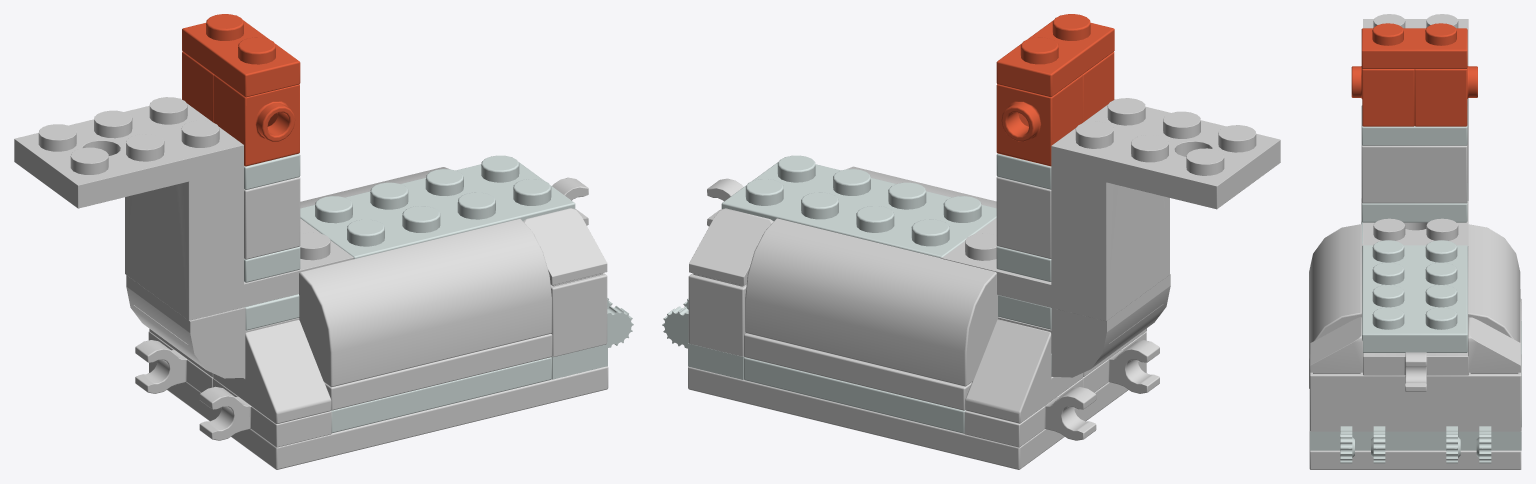
The model's file is Passo 20.fbx.
3 views of the same model, side by side, from view 1: azimuth 30°, elevation 25°; view 2: azimuth 150°, elevation 25°; view 3: azimuth 270°, elevation 25° (orthographic). The views are drawn at different scales.
Visible parts, largest first — view 1: Bracket_5x2.001, Brick_curved_2x4__1_.004, Plate_2x4.009, Plate_4x6.010, Slope_2x1_2.006, Plate_1x2__2_.005, Slope_curved_2x2.003, Brick_special_1x1, Plate_1x4__1_.008, Plate_2x4__1_.009, Brick_1x4.008, Brick_1x2 (+9 smaller); view 2: Bracket_5x2.001, Brick_curved_2x4.004, Plate_2x4.009, Plate_4x6.010, Slope_2x1_2__1_.006, Plate_1x2__2_.005, Slope_curved_2x2.003, Plate_1x4.008, Brick_special_1x1__1_, Plate_2x4_1.002, Brick_1x4.008, Slope_1x1__1_.005 (+9 smaller); view 3: Brick_1x4.008, Plate_2x4.009, Brick_1x2, Brick_curved_2x4__1_.004, Brick_curved_2x4.004, Plate_1x2__2_.005, Bracket_5x2.001, Plate_4x6.010, Brick_special_1x1__1_, Brick_special_1x1, Plate_special_1x2_2.009, Hinge_plate__1_.010 (+5 smaller).
Boxes of the visible parts, box(x1,y1,x2,y2) form: Bracket_5x2.001: box(14, 97, 353, 320); Brick_curved_2x4__1_.004: box(299, 218, 551, 387); Plate_2x4.009: box(300, 155, 575, 258); Plate_4x6.010: box(149, 361, 608, 469); Slope_2x1_2.006: box(213, 320, 331, 423); Plate_1x2__2_.005: box(182, 14, 300, 97); Slope_curved_2x2.003: box(126, 275, 299, 378); Brick_special_1x1: box(213, 75, 299, 166); Plate_1x4__1_.008: box(325, 334, 552, 410); Plate_2x4__1_.009: box(331, 357, 551, 433); Brick_1x4.008: box(550, 273, 607, 356); Brick_1x2: box(244, 177, 300, 259); Bracket_5x2.001: box(940, 98, 1280, 320); Brick_curved_2x4.004: box(745, 218, 997, 386); Plate_2x4.009: box(721, 155, 996, 257); Plate_4x6.010: box(688, 360, 1146, 469); Slope_2x1_2__1_.006: box(965, 319, 1083, 423); Plate_1x2__2_.005: box(996, 14, 1114, 97); Slope_curved_2x2.003: box(998, 274, 1170, 377); Plate_1x4.008: box(744, 333, 971, 410); Brick_special_1x1__1_: box(996, 75, 1082, 166); Plate_2x4_1.002: box(744, 357, 965, 433); Brick_1x4.008: box(688, 273, 746, 356); Slope_1x1__1_.005: box(689, 208, 773, 286); Brick_1x4.008: box(1309, 354, 1521, 431); Plate_2x4.009: box(1362, 240, 1467, 352); Brick_1x2: box(1361, 145, 1467, 203); Brick_curved_2x4__1_.004: box(1309, 224, 1362, 388); Brick_curved_2x4.004: box(1468, 224, 1520, 342); Plate_1x2__2_.005: box(1361, 23, 1467, 68); Bracket_5x2.001: box(1363, 14, 1468, 246); Plate_4x6.010: box(1309, 431, 1521, 469); Brick_special_1x1__1_: box(1414, 66, 1477, 126); Brick_special_1x1: box(1351, 66, 1414, 126); Plate_special_1x2_2.009: box(1363, 352, 1468, 391); Hinge_plate__1_.010: box(1416, 426, 1521, 463).
Bounding box in the file's own units: 0.7826 × 0.53 × 0.3217.
